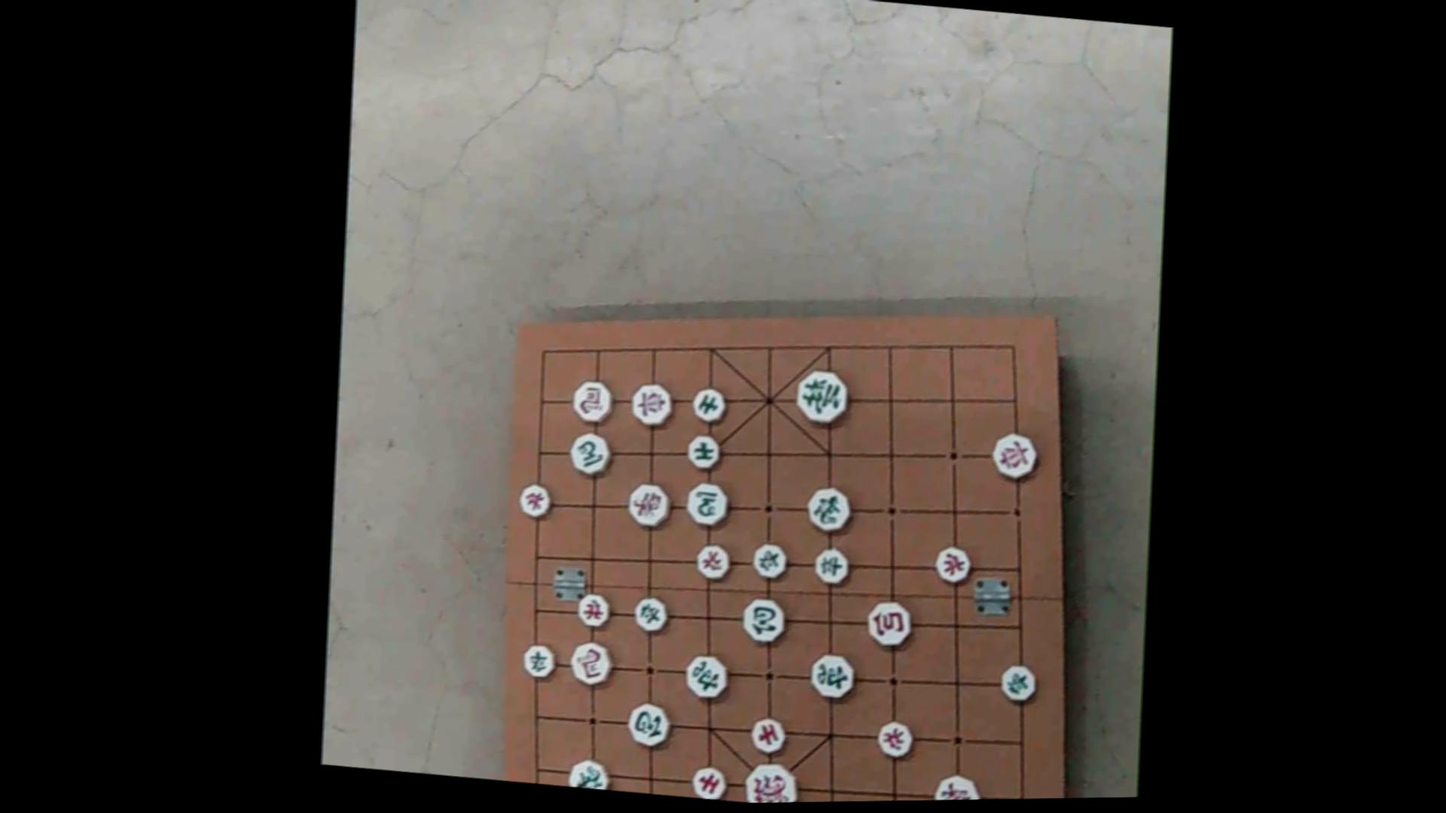cha_green: (805, 650, 856, 699), (682, 655, 731, 702)
cha_red: (989, 430, 1041, 479), (627, 382, 674, 428)
jol_green: (997, 662, 1039, 702), (521, 644, 560, 681), (750, 541, 789, 578), (635, 597, 673, 634), (813, 547, 852, 583)
jol_red: (876, 720, 918, 759), (932, 547, 973, 586), (516, 483, 553, 520), (694, 543, 731, 579), (575, 595, 612, 628)
ma_green: (566, 431, 614, 476), (684, 482, 732, 526)
ma_red: (567, 638, 617, 686), (570, 377, 616, 422)
po_green: (740, 599, 789, 647), (624, 702, 674, 748)
po_red: (864, 600, 915, 650)
sa_green: (690, 385, 729, 421), (686, 435, 722, 468)
sa_red: (748, 715, 788, 754), (691, 766, 730, 801)
sang_green: (804, 485, 855, 532), (566, 757, 612, 790)
sang_red: (627, 481, 674, 527), (930, 772, 983, 800)
wang_green: (795, 368, 854, 425)
wang_red: (743, 760, 801, 802)
